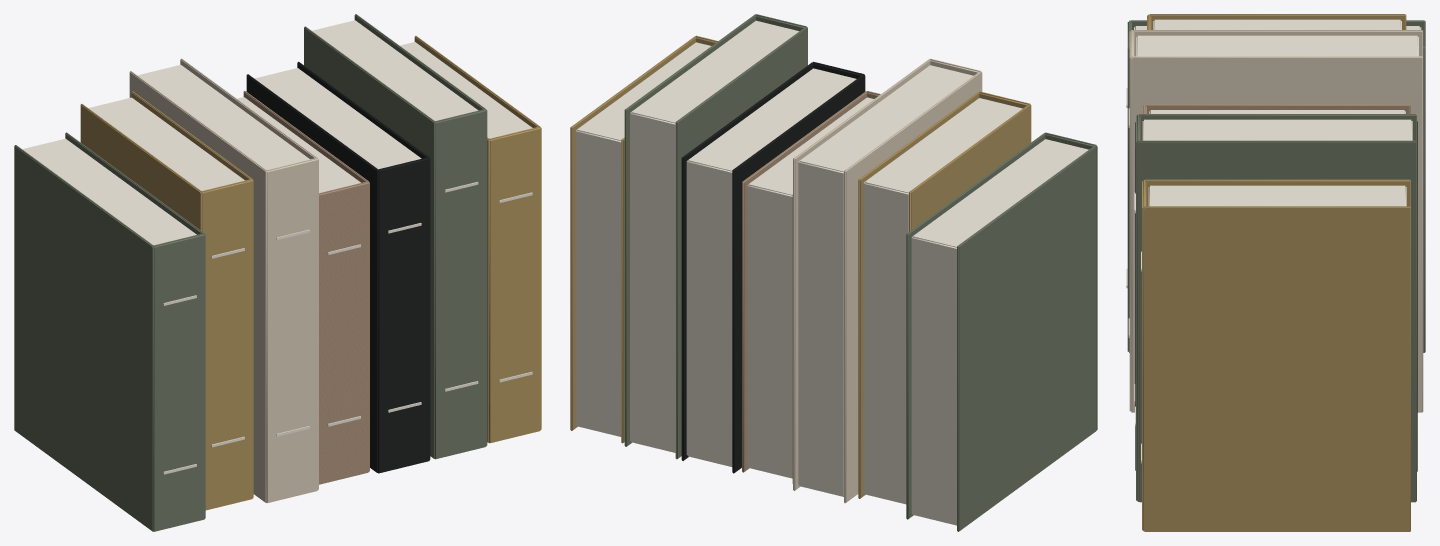
Rendered from scandinavian.books.gltf.
3 views of the same model, side by side, from view 1: azimuth 30°, elevation 25°; view 2: azimuth 150°, elevation 25°; view 3: azimuth 270°, elevation 25° (orthographic). The views are drawn at different scales.
Parts seen in each view (by area): view 1: scandinavian.books.pages; view 2: scandinavian.books.pages; view 3: scandinavian.books.pages.
Boxes of the visible parts, box(x1,y1,x2,y2) form: scandinavian.books.pages: box(14, 14, 541, 531); scandinavian.books.pages: box(570, 14, 1097, 531); scandinavian.books.pages: box(1126, 14, 1425, 531).
Bounding box in the file's own units: 0.3366 × 0.2744 × 0.206.
6 materials, 1 textured.
